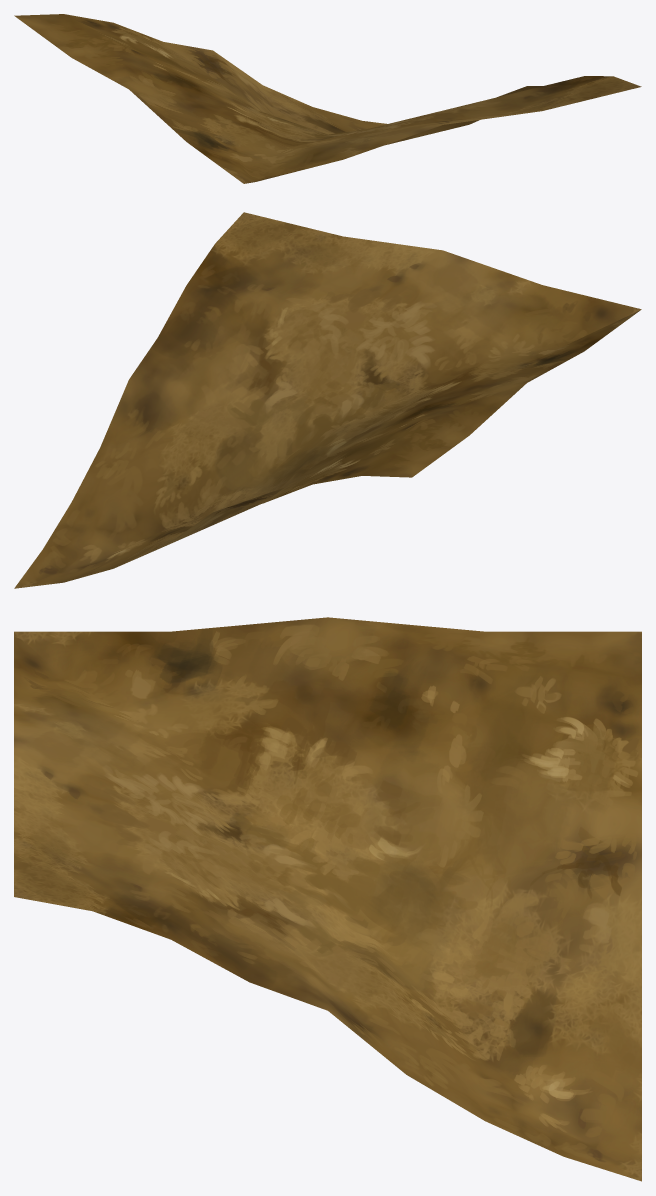
The model's file is Slope_Incline_003.fbx.
3 views of the same model, one above another, from view 1: azimuth 30°, elevation 25°; view 2: azimuth 150°, elevation 25°; view 3: azimuth 270°, elevation 25° (orthographic). The views are drawn at different scales.
Visible parts, largest first — view 1: Slope_Incline_003; view 2: Slope_Incline_003; view 3: Slope_Incline_003.
Boxes of the visible parts, bbox=[...] form: Slope_Incline_003: bbox=[14, 14, 641, 183]; Slope_Incline_003: bbox=[14, 212, 641, 588]; Slope_Incline_003: bbox=[14, 617, 641, 1181].
Bounding box in the file's own units: 10 × 5.25 × 10.
Materials: 1 (1 with a texture image).
